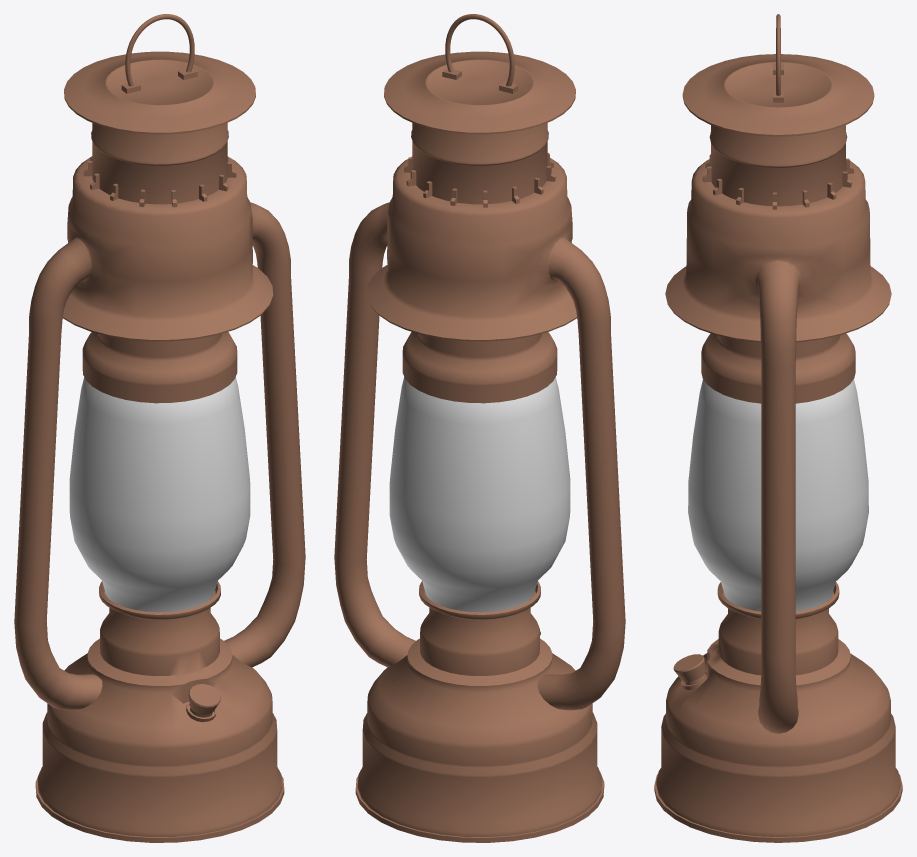
Rendered from Lantern.fbx.
3 views of the same model, side by side, from view 1: azimuth 30°, elevation 25°; view 2: azimuth 150°, elevation 25°; view 3: azimuth 270°, elevation 25° (orthographic).
Visible parts, largest first — view 1: Cylinder.001, Cylinder.000; view 2: Cylinder.001, Cylinder.000; view 3: Cylinder.001, Cylinder.000.
Part boxes in pixels (left/top/right/bottom): Cylinder.001: left=14, top=14, right=305, bottom=842; Cylinder.000: left=69, top=377, right=250, bottom=612; Cylinder.001: left=334, top=14, right=625, bottom=842; Cylinder.000: left=389, top=377, right=570, bottom=612; Cylinder.001: left=654, top=14, right=902, bottom=842; Cylinder.000: left=688, top=379, right=868, bottom=611.
Bounding box in the file's own units: 0.1744 × 0.4505 × 0.1311.
